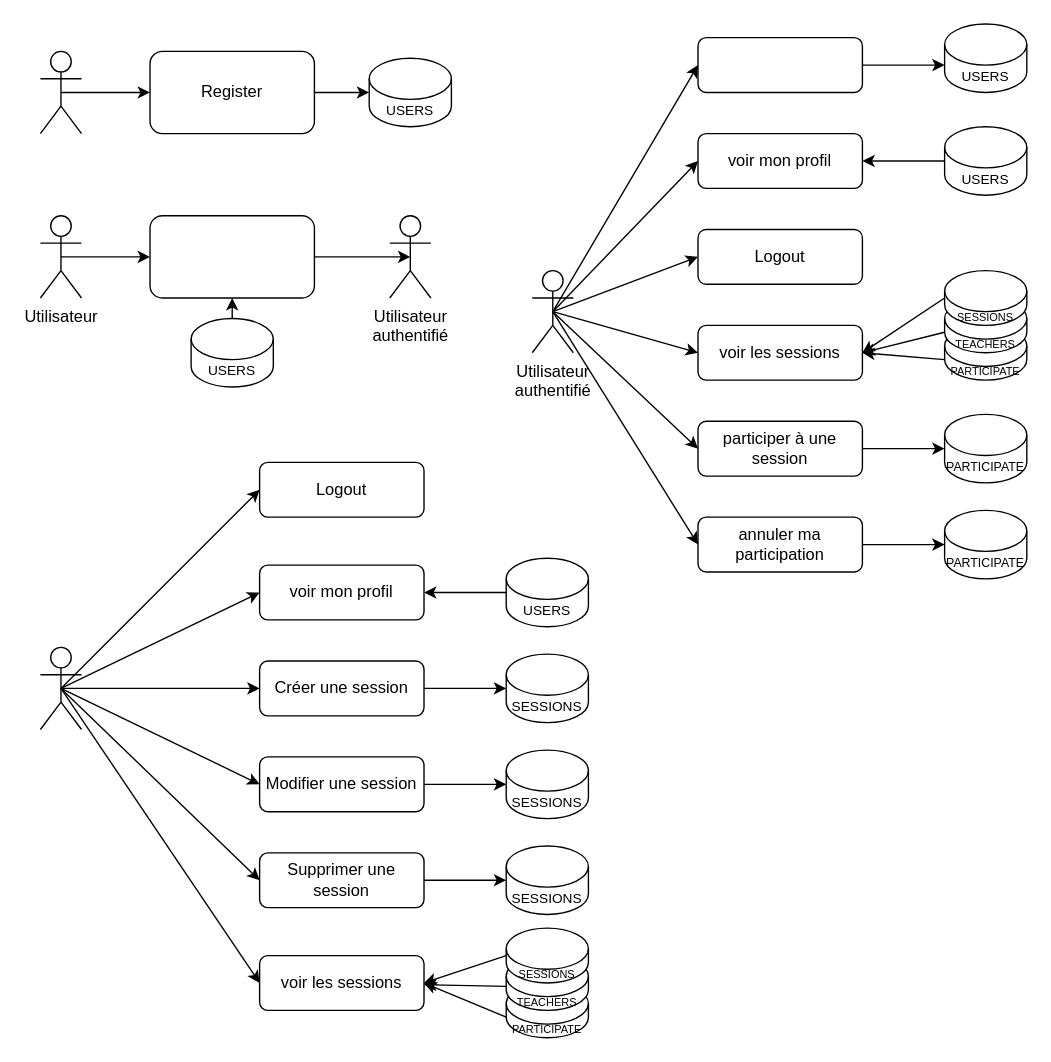
The diagram is 1051 pixels wide and 1062 high, and some of its shapes have lost their labels. The shapes that lost their labels are listed below. From the top down, each one's centre as x and y in pixels, then its label:
(779,64): supprimer mon profil
(60,92): Invité
(231,256): Login
(60,688): Admin authentifié
